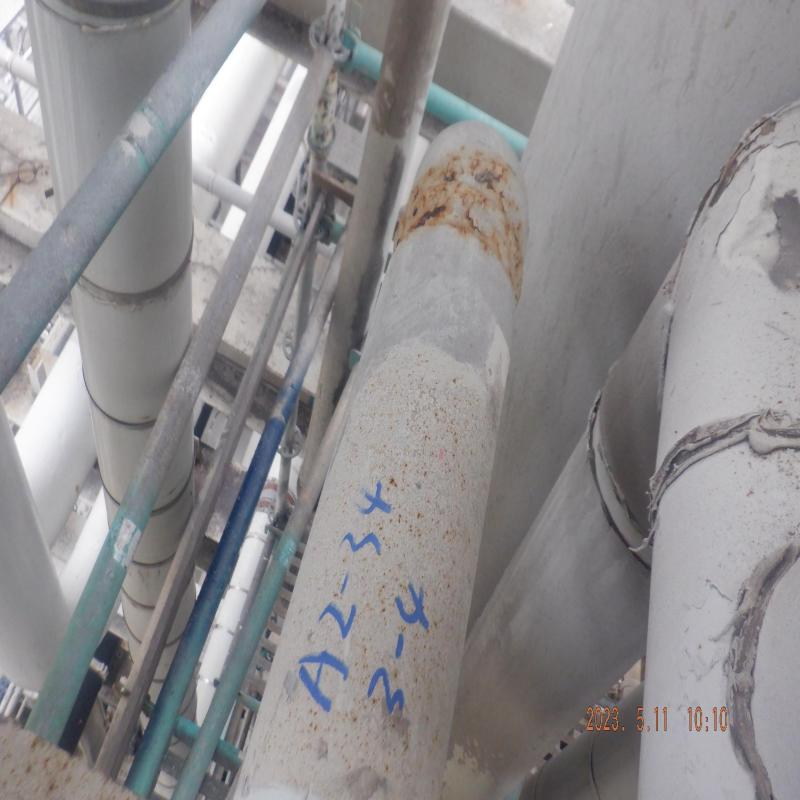corrosion: (395, 169, 520, 239)
